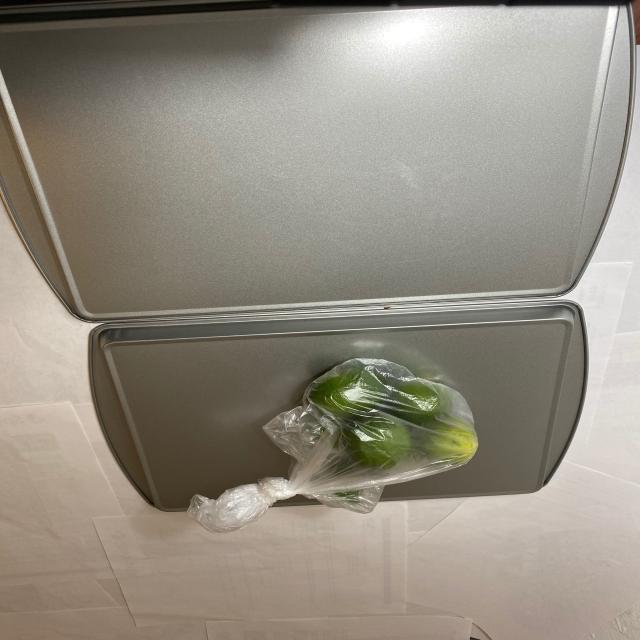lemon: (292, 354, 484, 505)
